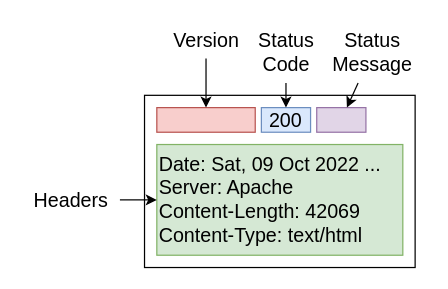
This 448x289 diagram has some shape labels left out. The box of each missing label's shape, as (x1, y1, x2, y2) in pixels:
HTTP/1.1: (156, 106, 255, 132)
OK: (315, 106, 366, 132)
